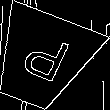P_SW: (12, 30, 72, 90)
